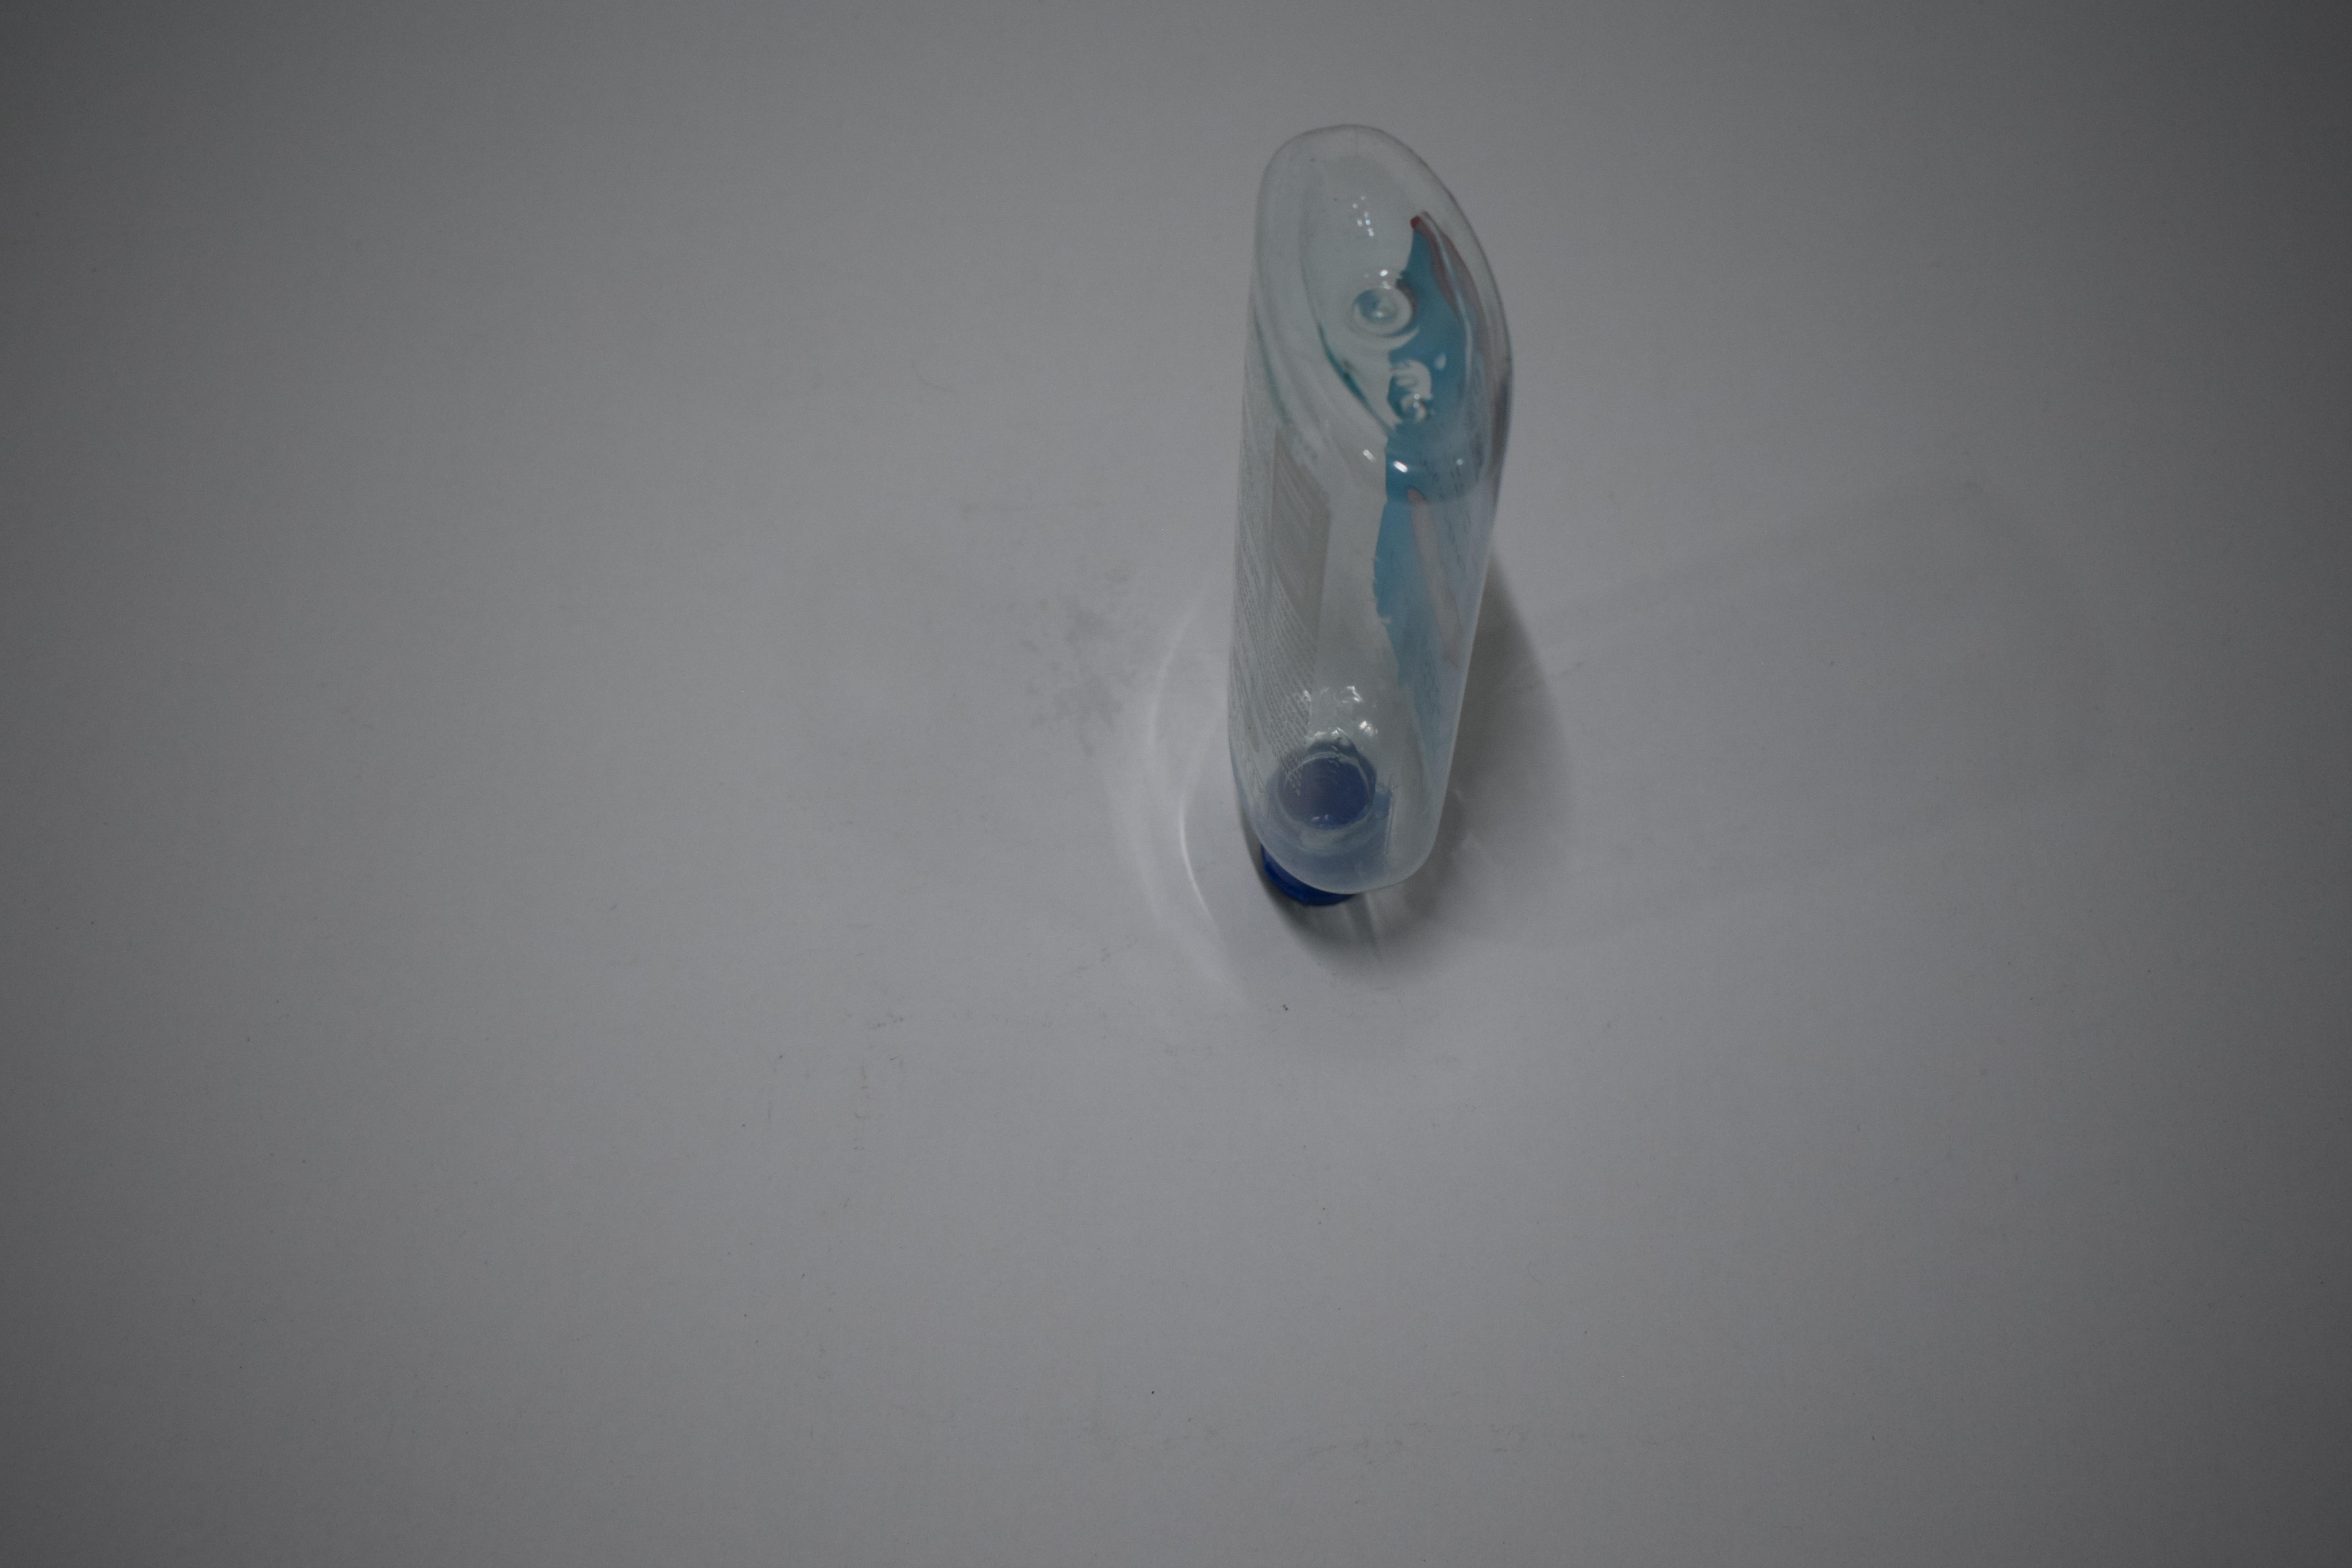bottle: (44, 502, 348, 534)
